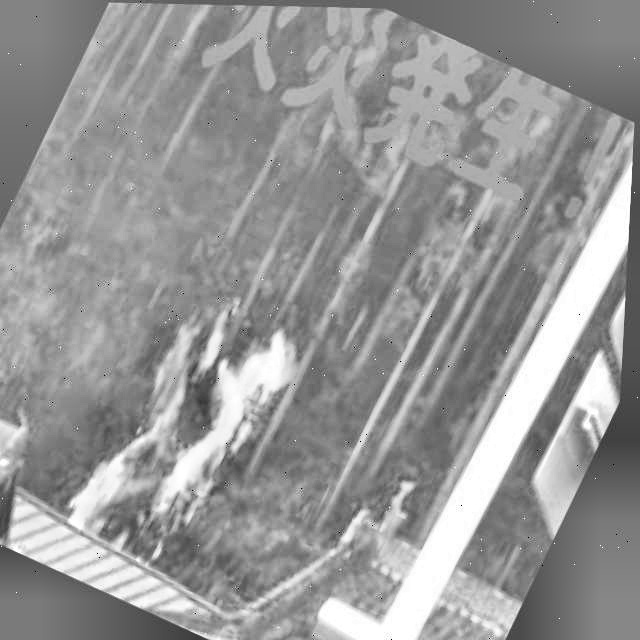Fire: (64, 281, 332, 594)
